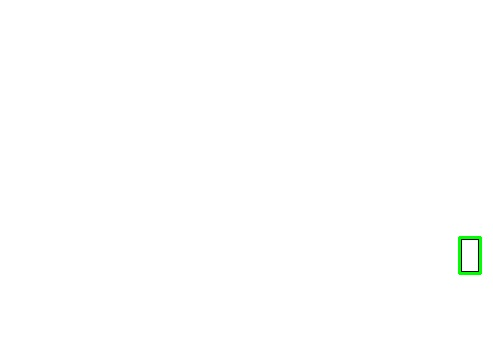line_segment: (458, 236, 482, 274)
